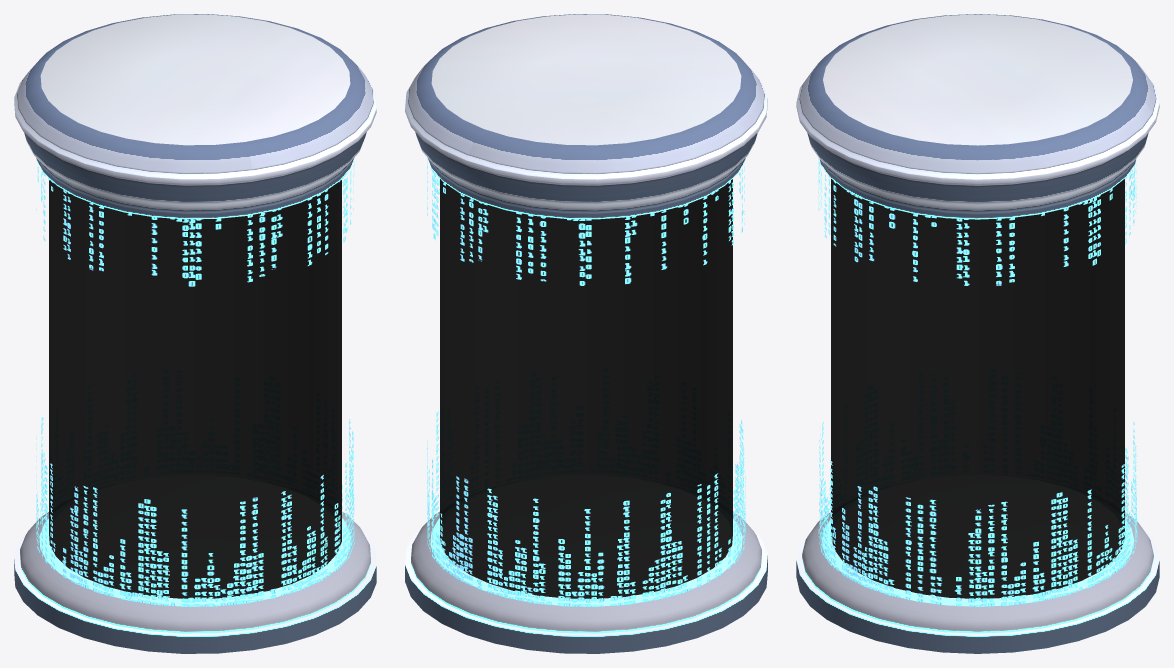
The model's file is obj_assistant.gltf.
3 renders of one model, left to right at view 1: azimuth 30°, elevation 25°; view 2: azimuth 150°, elevation 25°; view 3: azimuth 270°, elevation 25°, orthographic.
Visible parts, largest first — view 1: obj_assistant01, obj_assistant02, obj_assistant03; view 2: obj_assistant01, obj_assistant02, obj_assistant03; view 3: obj_assistant01, obj_assistant02, obj_assistant03.
Boxes of the visible parts, left/top/right/bottom form: obj_assistant01: left=49, top=180, right=341, bottom=598; obj_assistant02: left=14, top=14, right=376, bottom=653; obj_assistant03: left=36, top=161, right=354, bottom=606; obj_assistant01: left=440, top=179, right=732, bottom=598; obj_assistant02: left=405, top=14, right=767, bottom=653; obj_assistant03: left=427, top=158, right=745, bottom=606; obj_assistant01: left=831, top=179, right=1124, bottom=598; obj_assistant02: left=796, top=14, right=1159, bottom=653; obj_assistant03: left=818, top=158, right=1137, bottom=606.
Bounding box in the file's own units: 3.23 × 4.89 × 3.23.
Materials: 3 (2 with a texture image).
